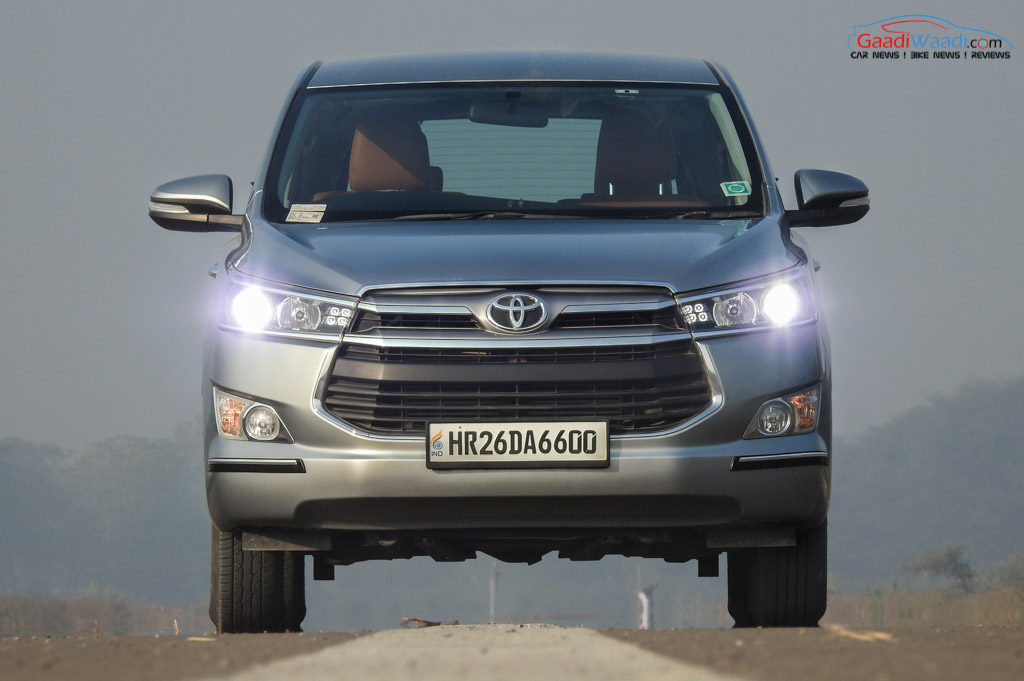number_plate: (423, 417, 619, 475)
